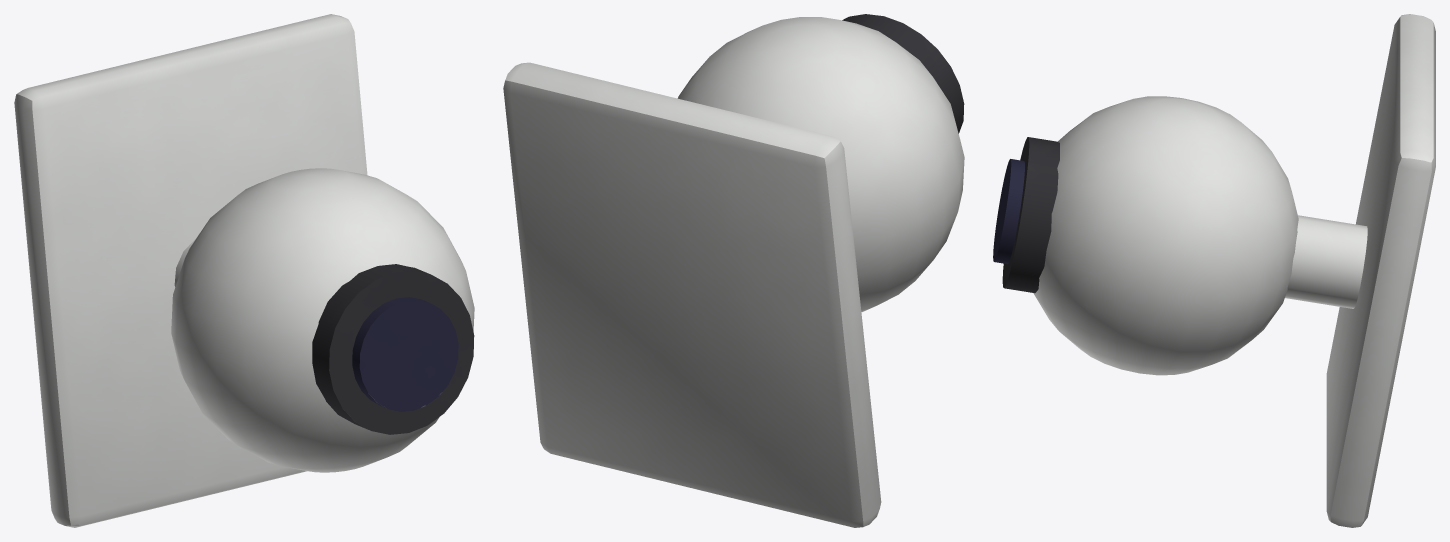
File: SM_WallCamera.fbx
The picture shows the model from 3 angles, left to right: view 1: azimuth 30°, elevation 25°; view 2: azimuth 150°, elevation 25°; view 3: azimuth 270°, elevation 25°; orthographic projection. The views are drawn at different scales.
Visible parts, largest first — view 1: SM_WallCamera; view 2: SM_WallCamera; view 3: SM_WallCamera.
Boxes of the visible parts, left/top/right/bottom form: SM_WallCamera: left=14, top=14, right=474, bottom=527; SM_WallCamera: left=503, top=14, right=964, bottom=527; SM_WallCamera: left=993, top=14, right=1435, bottom=527.
Size of what is drawn, in the model's own units: 0.1 by 0.1189 by 0.1266.
Materials: 1 (1 with a texture image).
